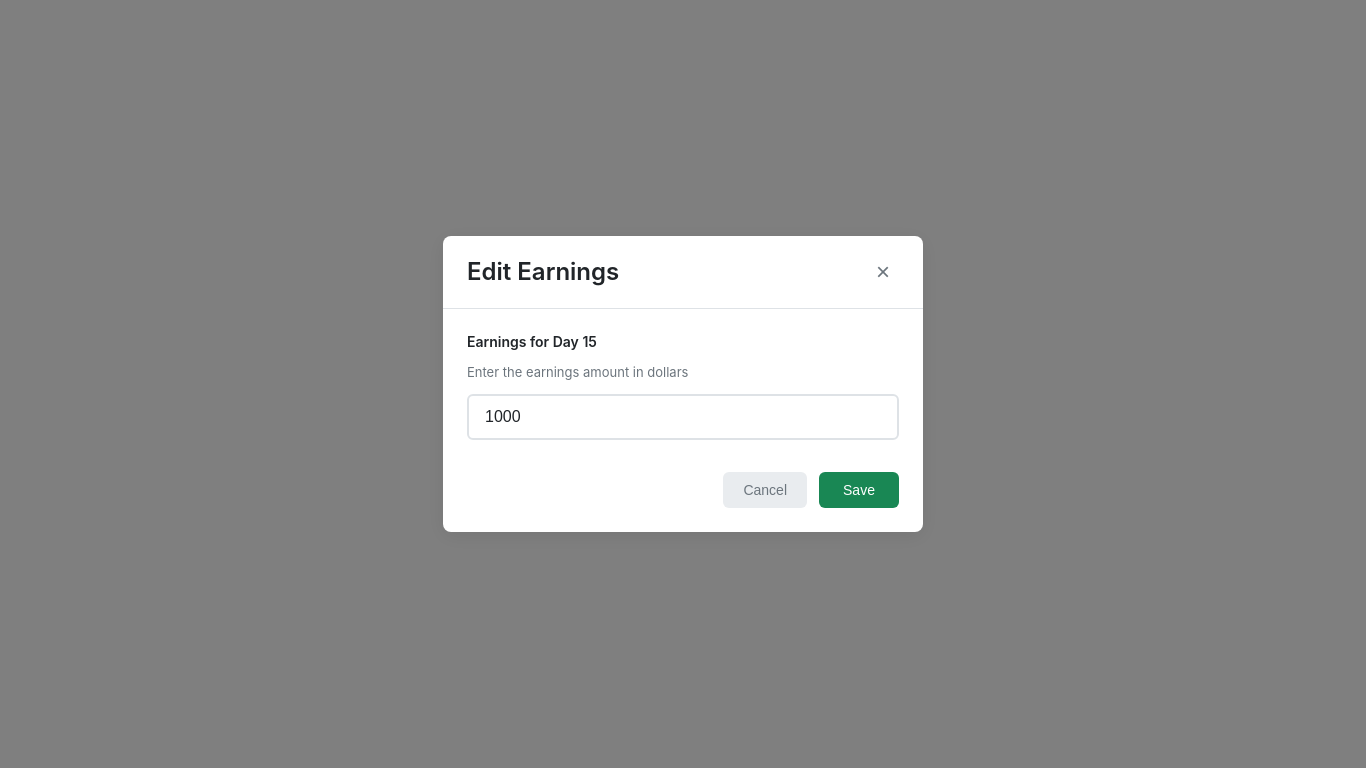
Test case: EditModal › Form Validation › should show error for empty value
Clear the number field. click: (683, 417)
box: [467, 394, 899, 440]
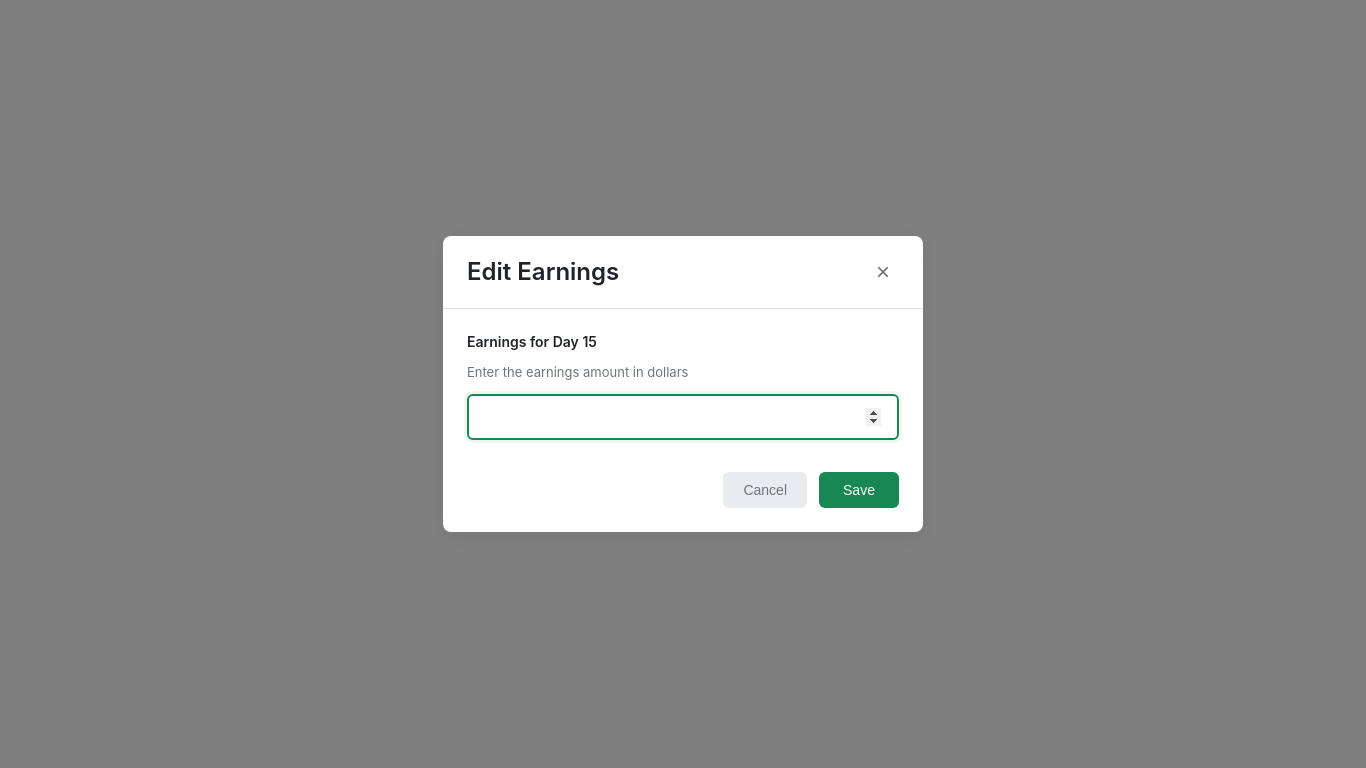
Click the button "Save". click: (859, 490)
box: [819, 472, 899, 508]
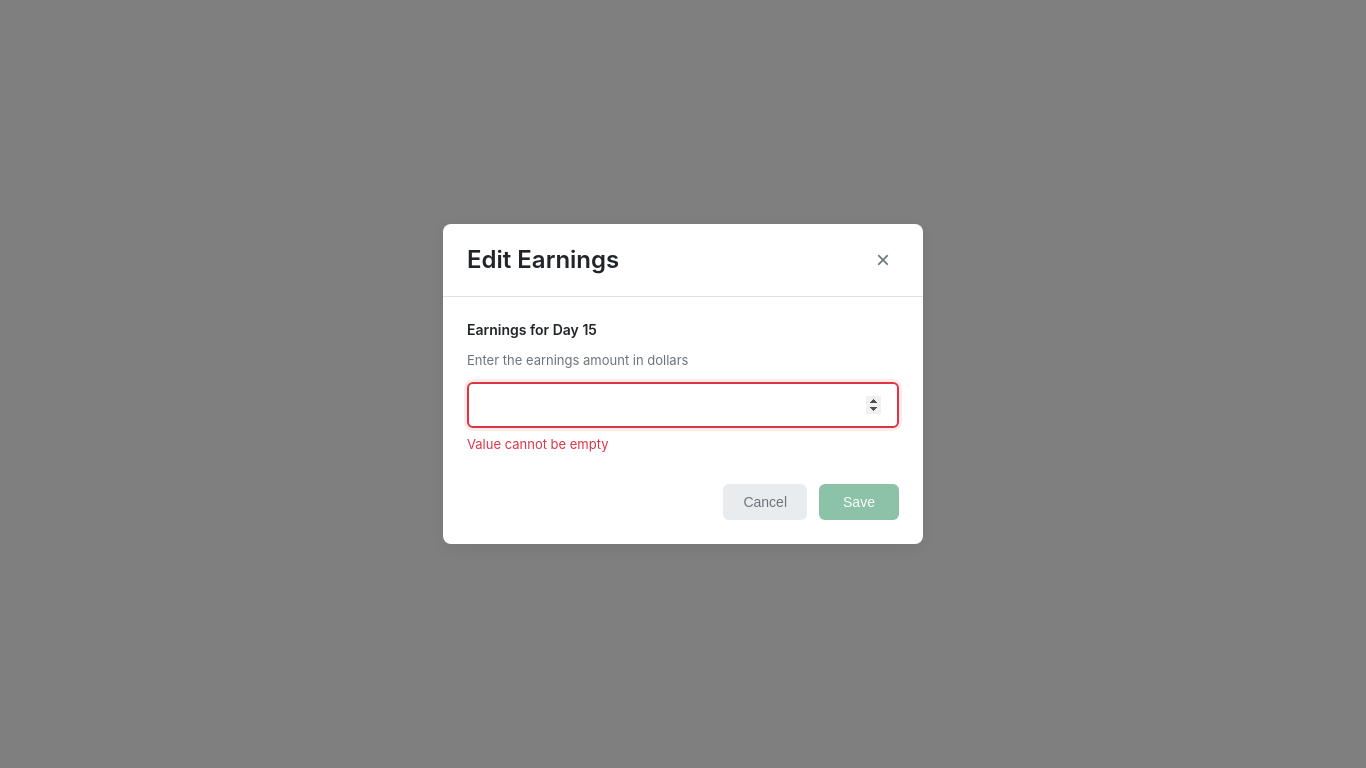
Now the text "Value cannot be empty" is shown, box [467, 436, 608, 452]
